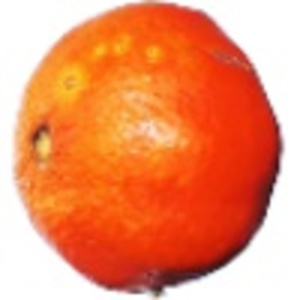tangerina: (3, 1, 285, 300)
